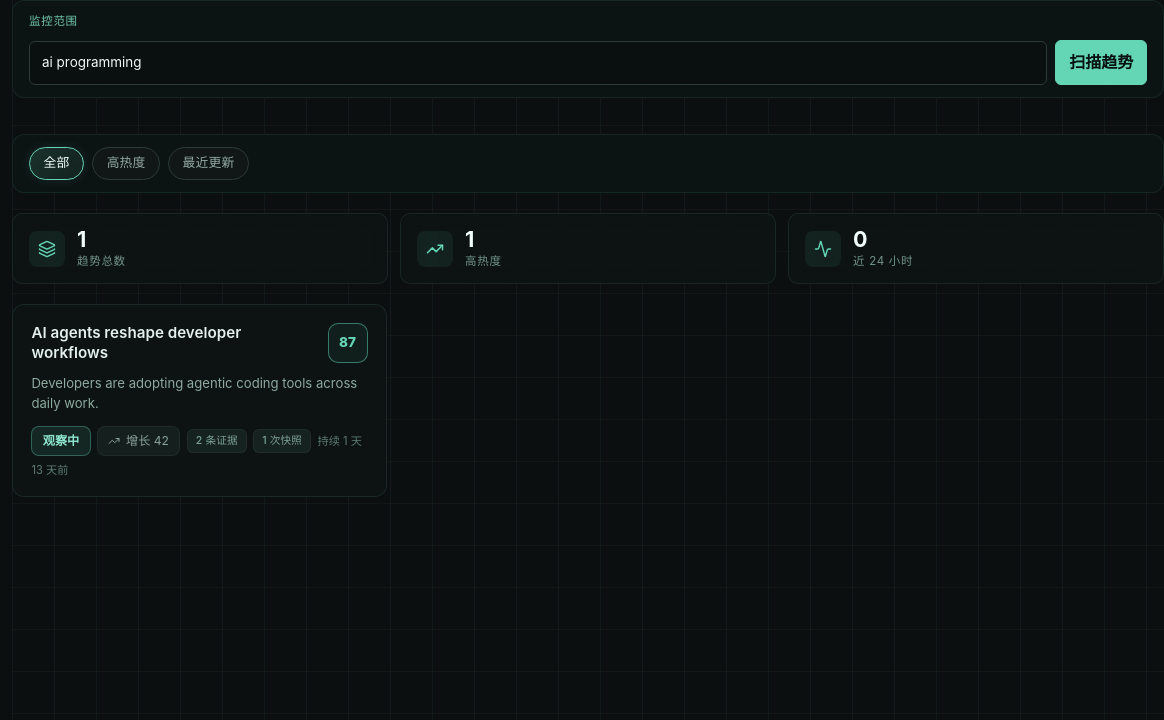
Test: Radar trends › opens the trend detail route from a Radar result
Click the link "AI agents reshape developer workflows" at (136,332), box [12, 304, 387, 497]
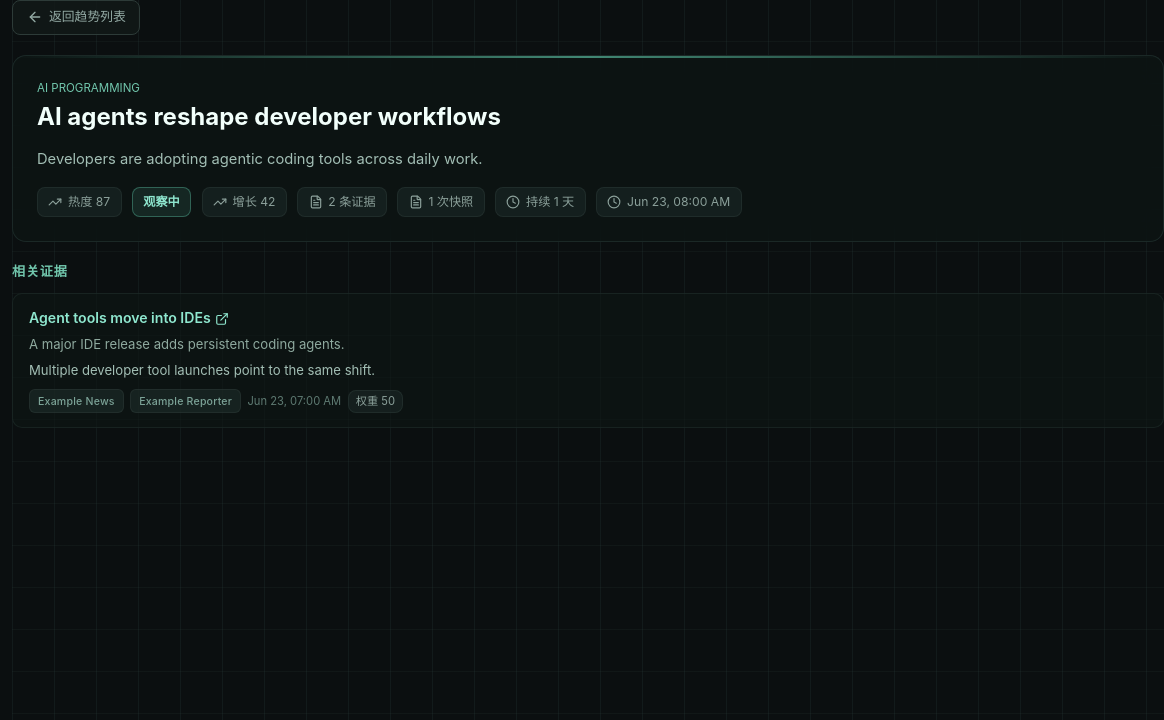
Expected: the heading "AI agents reshape developer workflows" is shown, [37, 102, 501, 131]
Expected: the text "Multiple developer tool launches point to the same shift." is shown, [29, 362, 375, 378]
